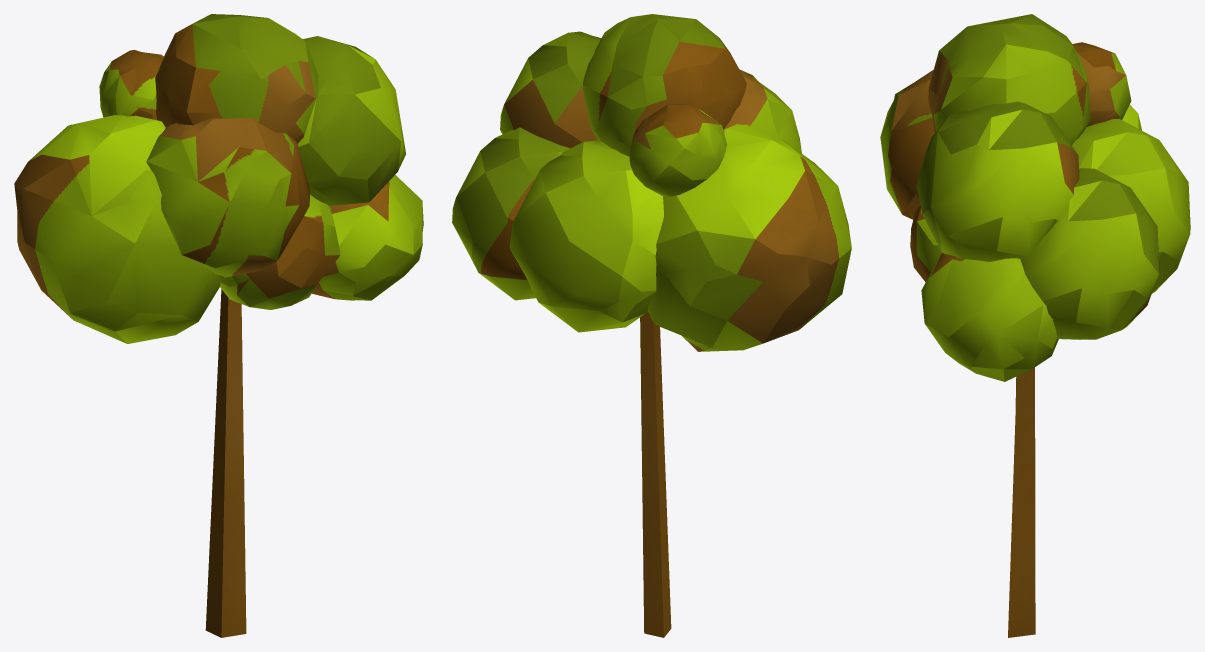
File: tree2.fbx
The picture shows the model from 3 angles, left to right: view 1: azimuth 30°, elevation 25°; view 2: azimuth 150°, elevation 25°; view 3: azimuth 270°, elevation 25°; orthographic projection. The views are drawn at different scales.
Parts seen in each view (by area): view 1: polySurface1; view 2: polySurface1; view 3: polySurface1.
Boxes of the visible parts, left/top/right/bottom form: polySurface1: left=14, top=14, right=423, bottom=637; polySurface1: left=452, top=14, right=851, bottom=637; polySurface1: left=880, top=14, right=1190, bottom=637.
Bounding box in the file's own units: 4.83 × 7.71 × 3.55.
